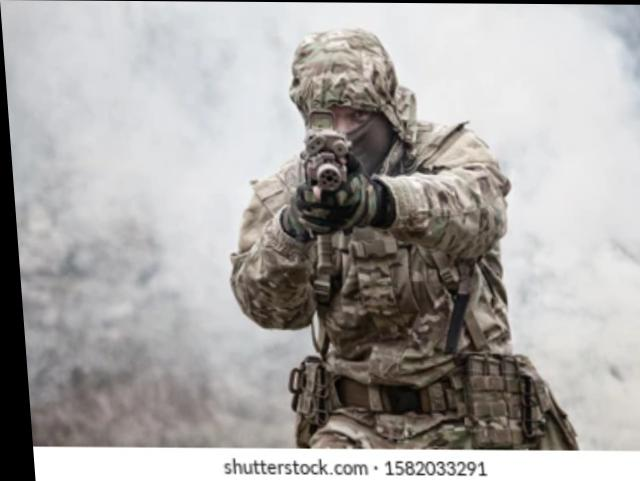other: (213, 24, 574, 447)
